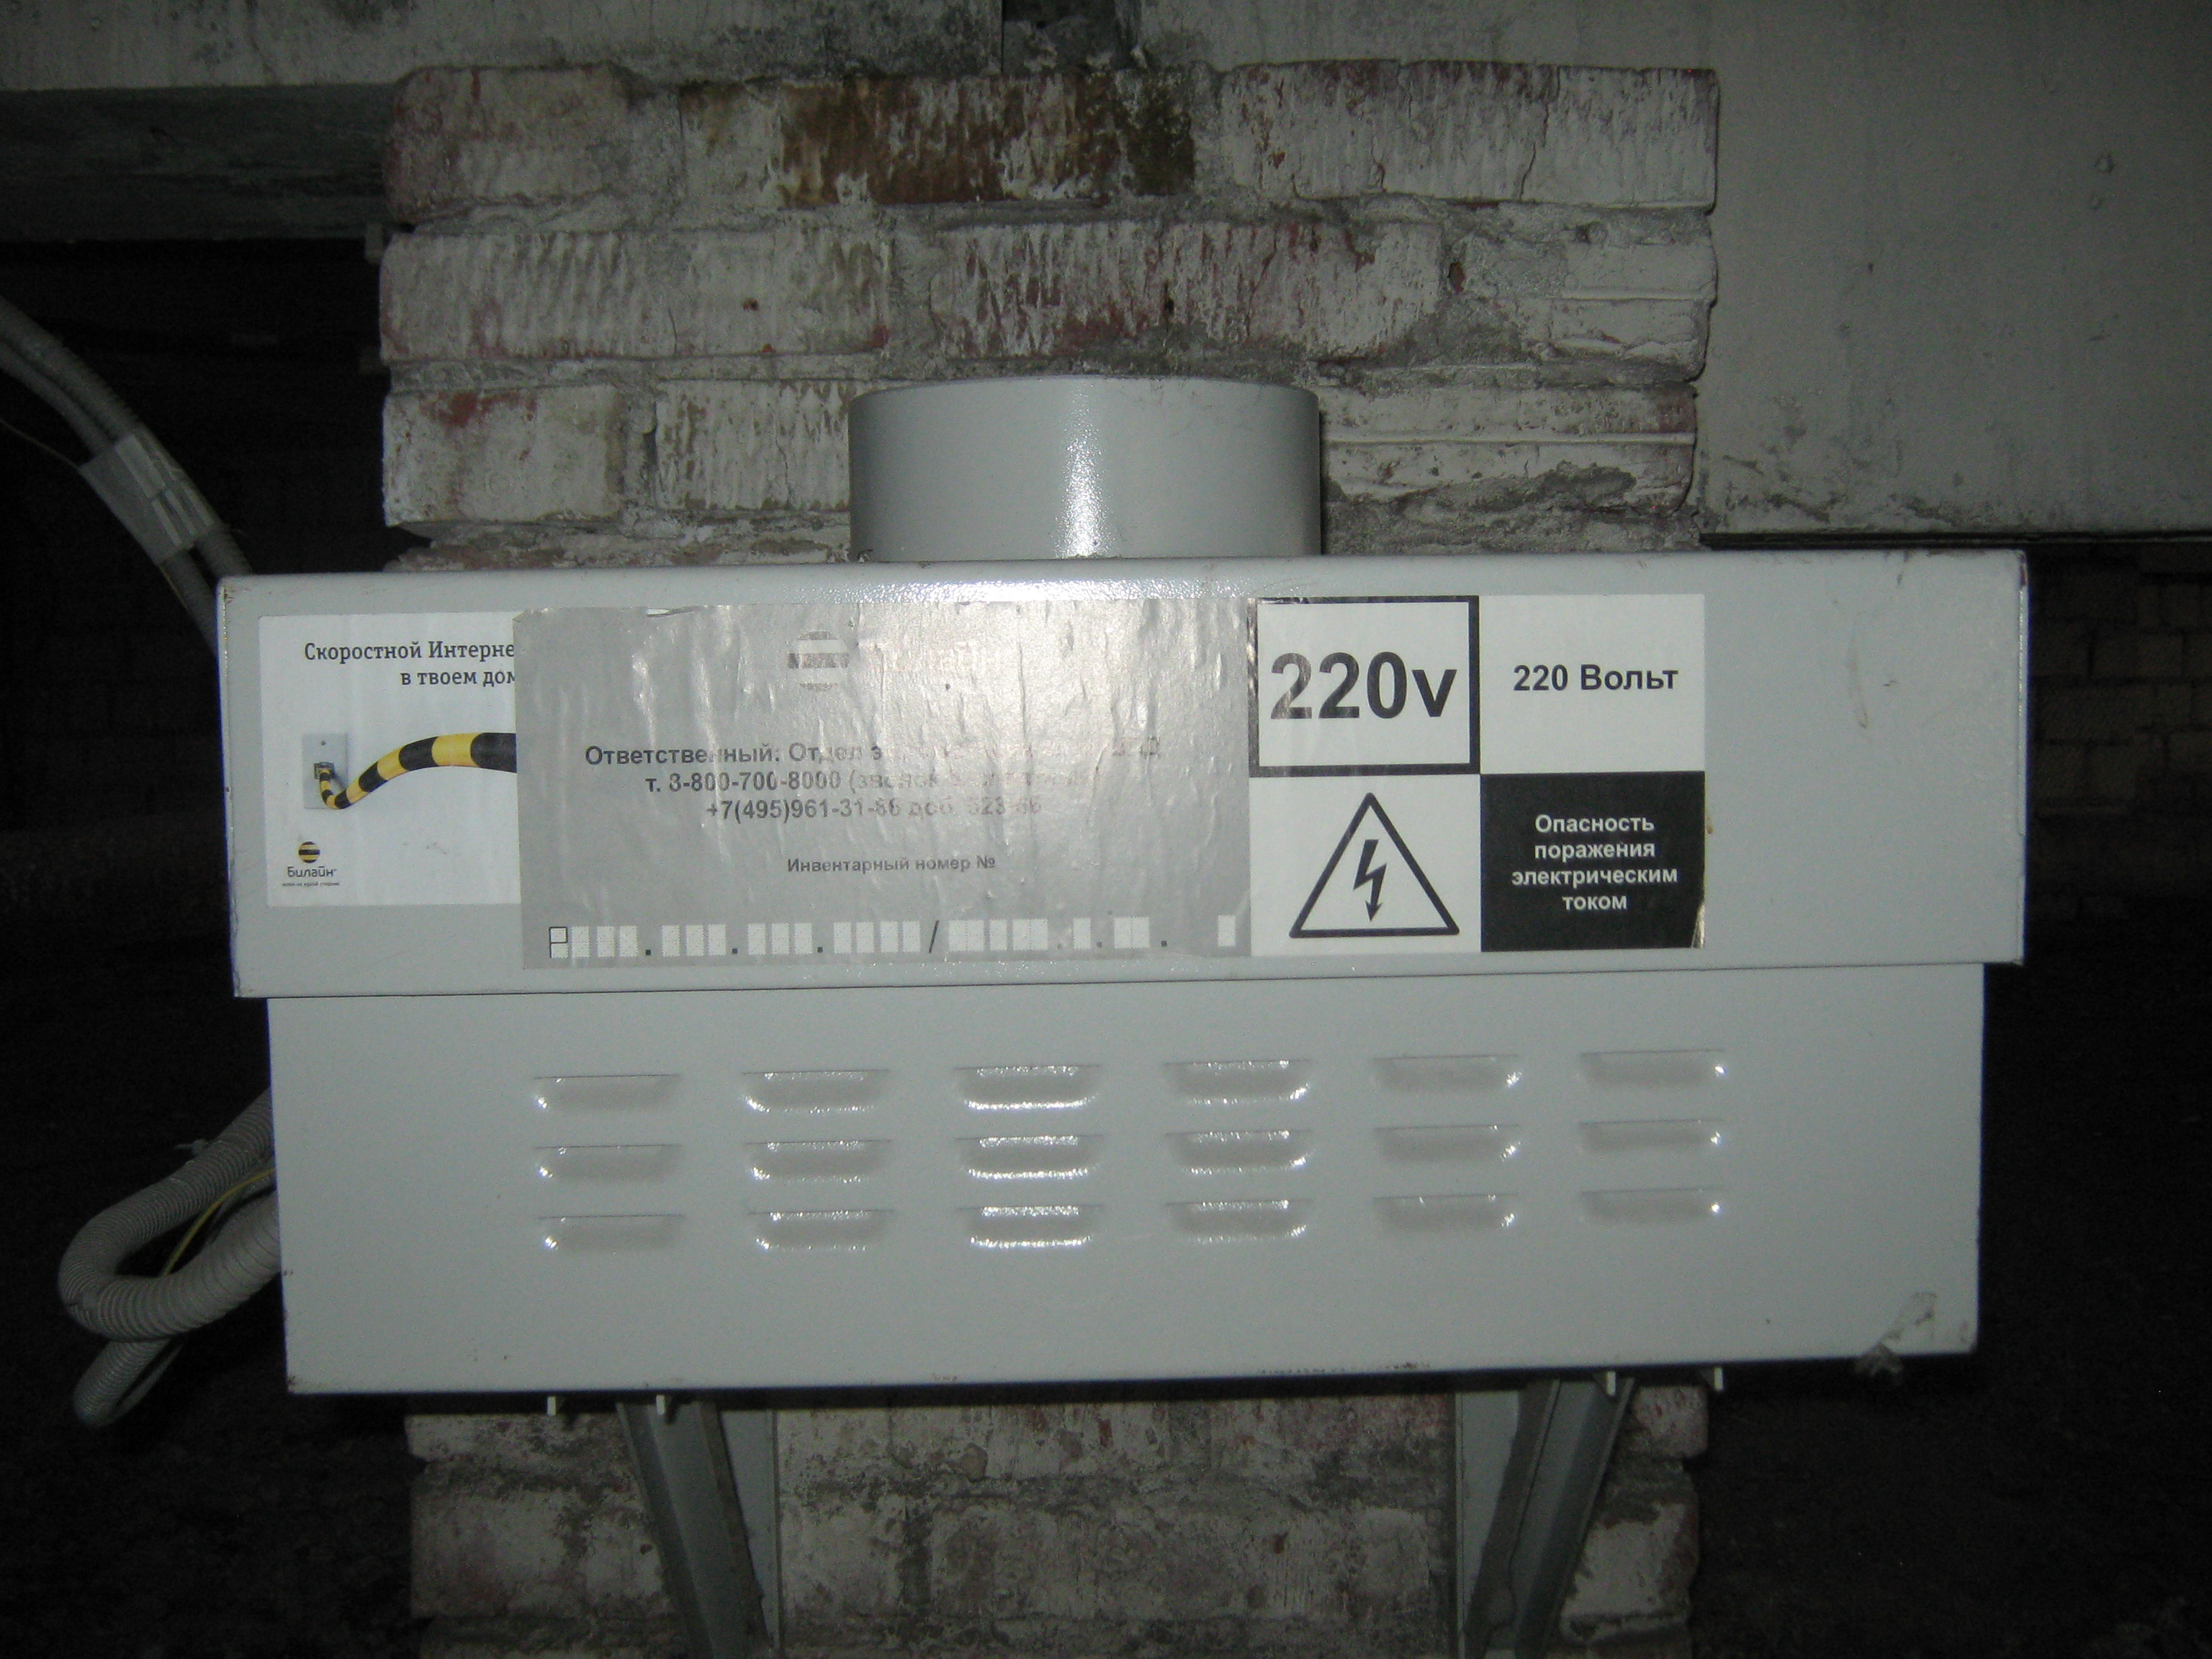shta-ps: (192, 342, 2047, 1412)
